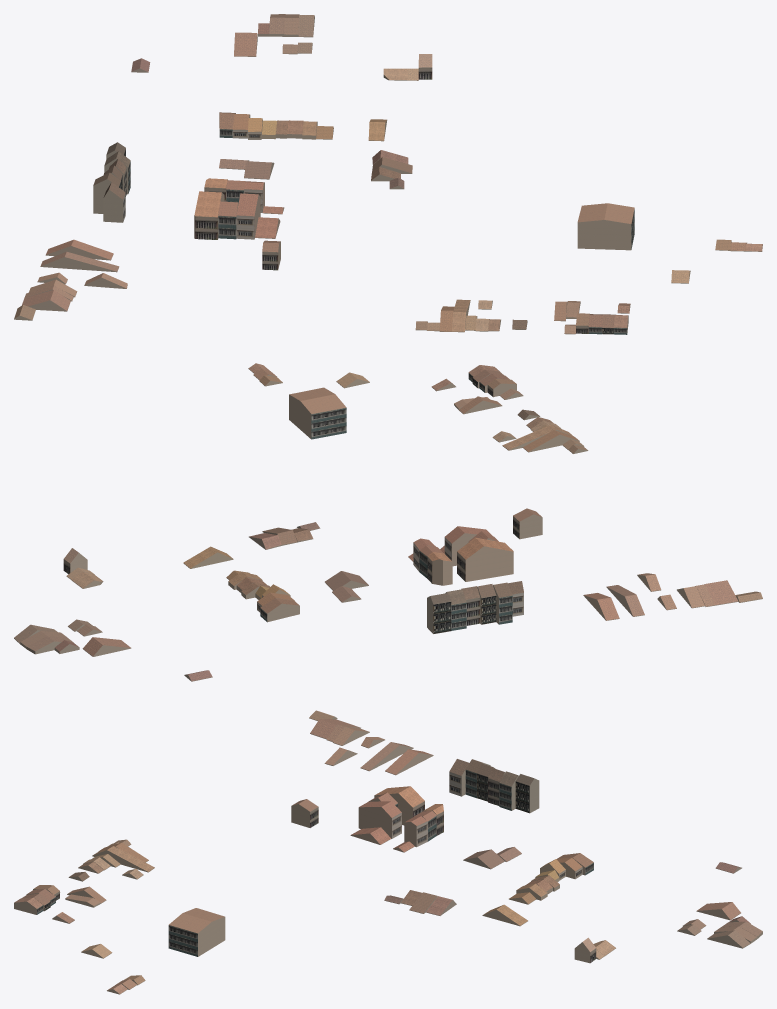
3 views of the same model, one above another, from view 1: azimuth 30°, elevation 25°; view 2: azimuth 150°, elevation 25°; view 3: azimuth 270°, elevation 25° (orthographic). The views are drawn at different scales.
Visible parts, largest first — view 1: interlock, render, flat-clay, barrel, windows; view 2: render, interlock, flat-clay, windows, barrel; view 3: render, interlock, flat-clay, windows, barrel.
Part boxes in pixels (x1,y1,x2,y2): interlock: (14,14,746,331); render: (14,15,762,334); flat-clay: (29,14,731,333); barrel: (104,68,762,331); windows: (119,68,634,334); render: (14,368,762,681); interlock: (14,369,762,680); flat-clay: (21,375,704,646); windows: (63,373,523,633); barrel: (72,363,573,604); render: (14,716,762,994); interlock: (22,710,762,989); flat-clay: (34,727,756,984); windows: (37,770,596,962); barrel: (14,768,615,993).
Size of the model in its own units: 228 by 12.34 by 257.
5 materials, 5 textured.
